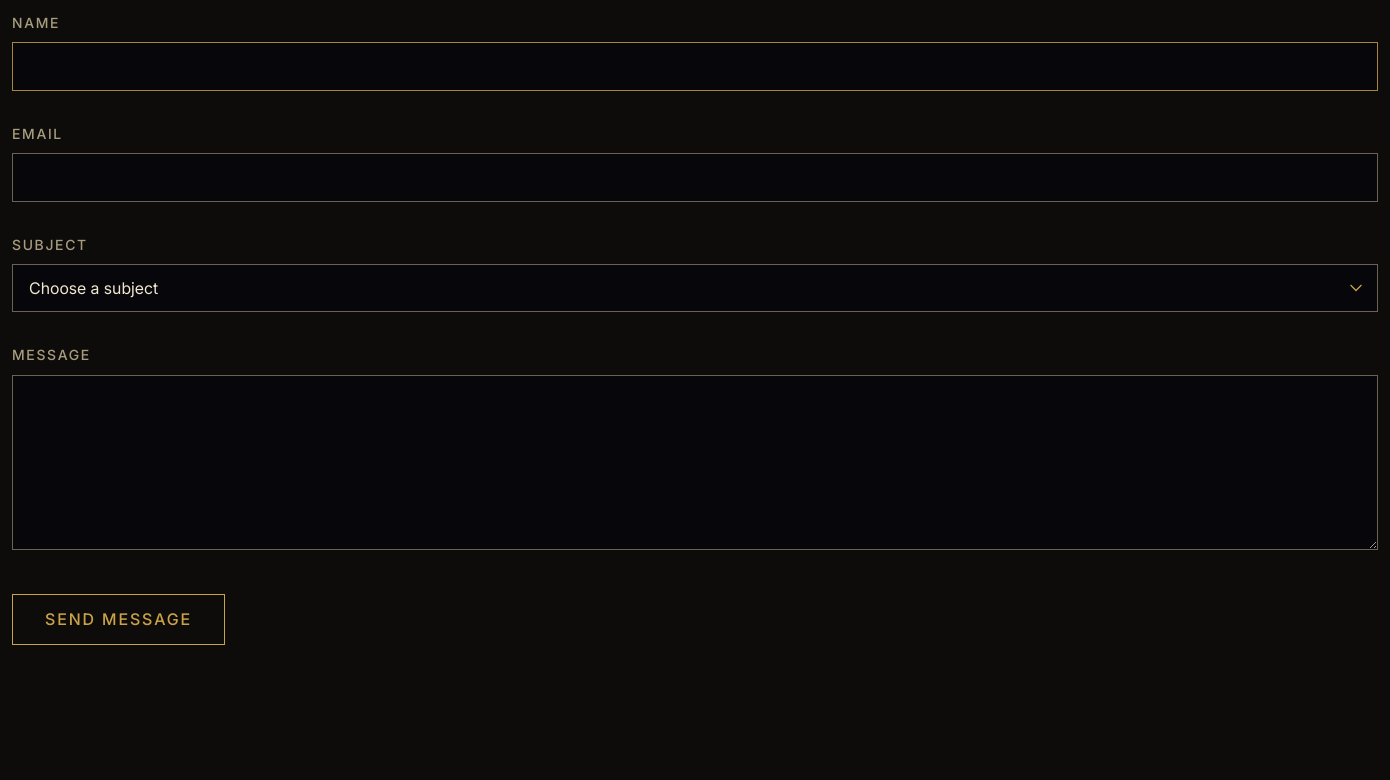
Test case: ContactForm › shows a server message when the error carries one
Step 1. Type "Ada" into the field with test id "contact-form-name" → (695, 67), box x1=12 y1=42 x2=1378 y2=91
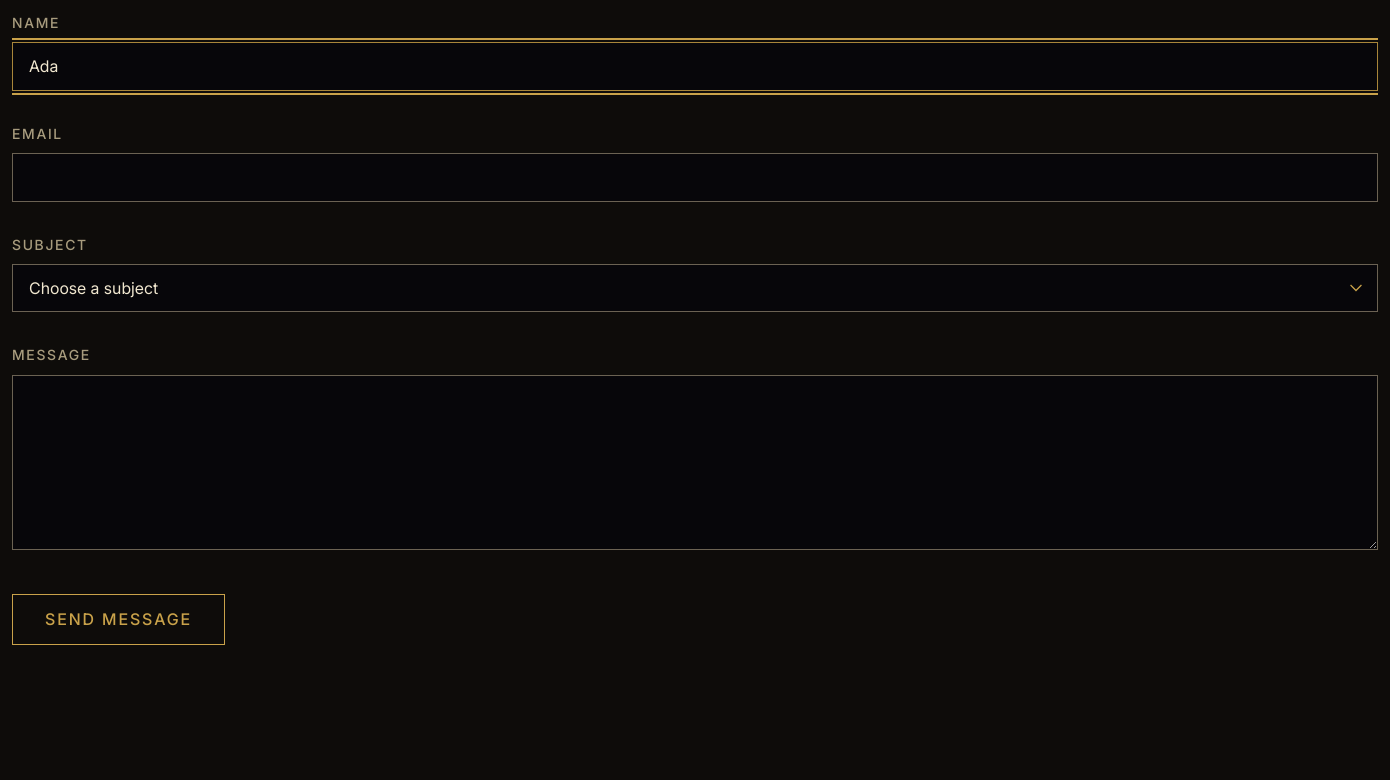
Step 2. Type "ada@example.com" into the field with test id "contact-form-email" → (695, 177), box x1=12 y1=153 x2=1378 y2=202
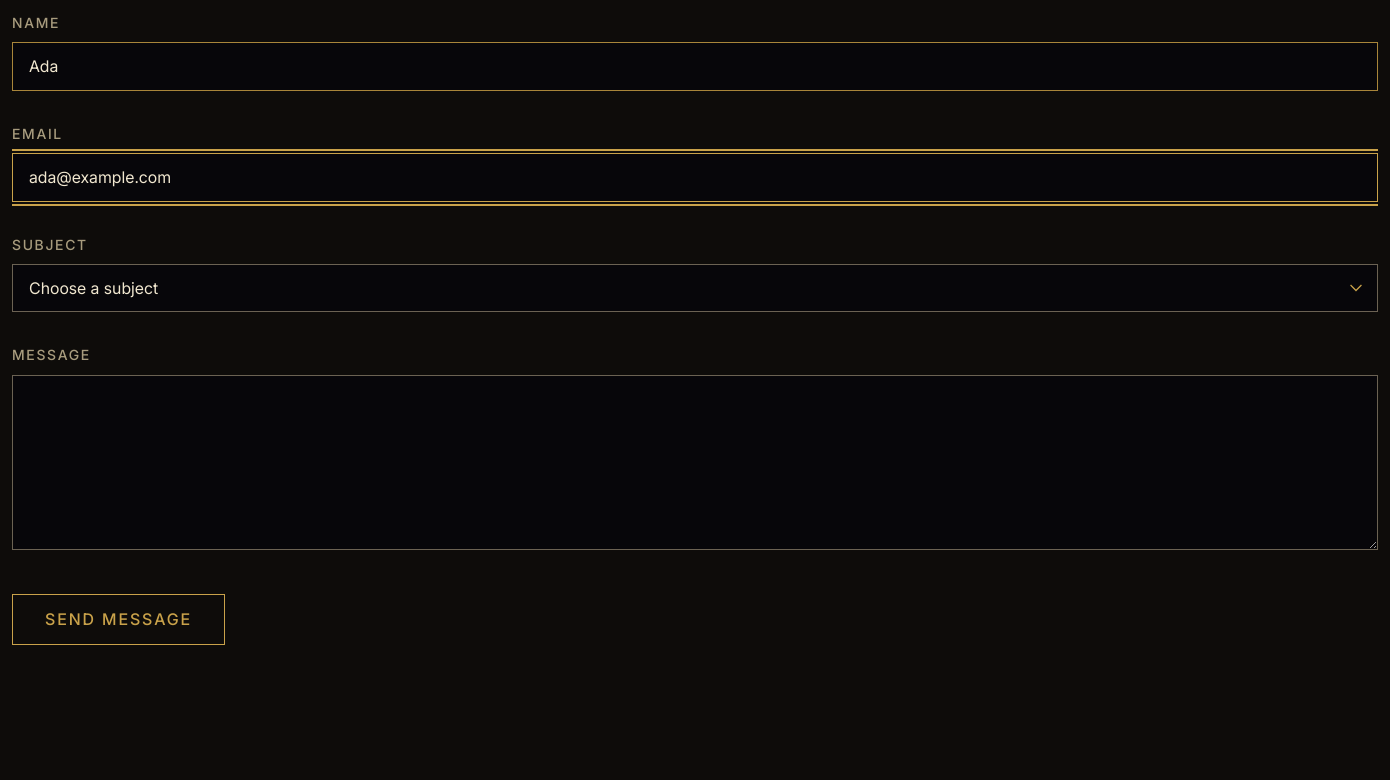
Step 3. Select "General inquiry" in the dropdown with test id "contact-form-subject-select" → (695, 288), box x1=12 y1=264 x2=1378 y2=312
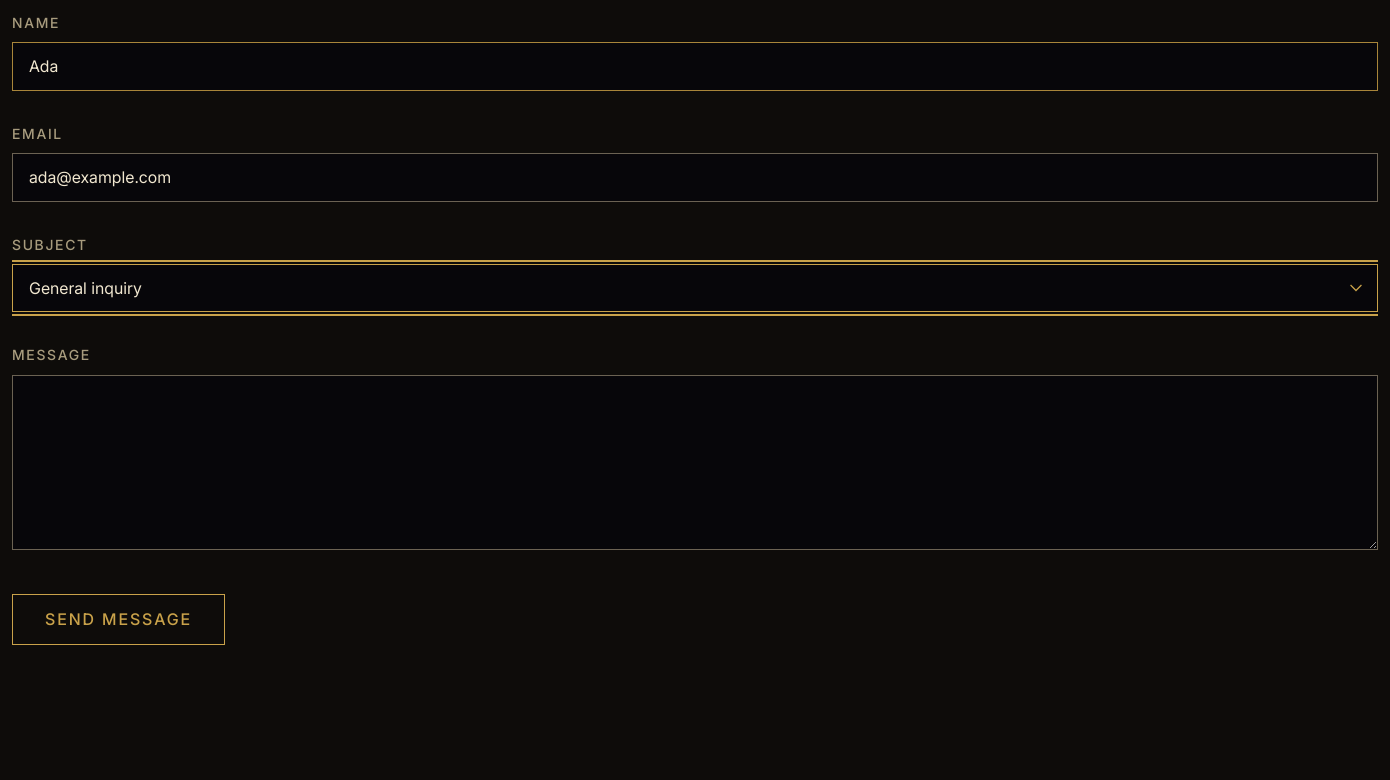
Step 4. Type "Hello there" into the text box with test id "contact-form-message" → (695, 462), box x1=12 y1=375 x2=1378 y2=550
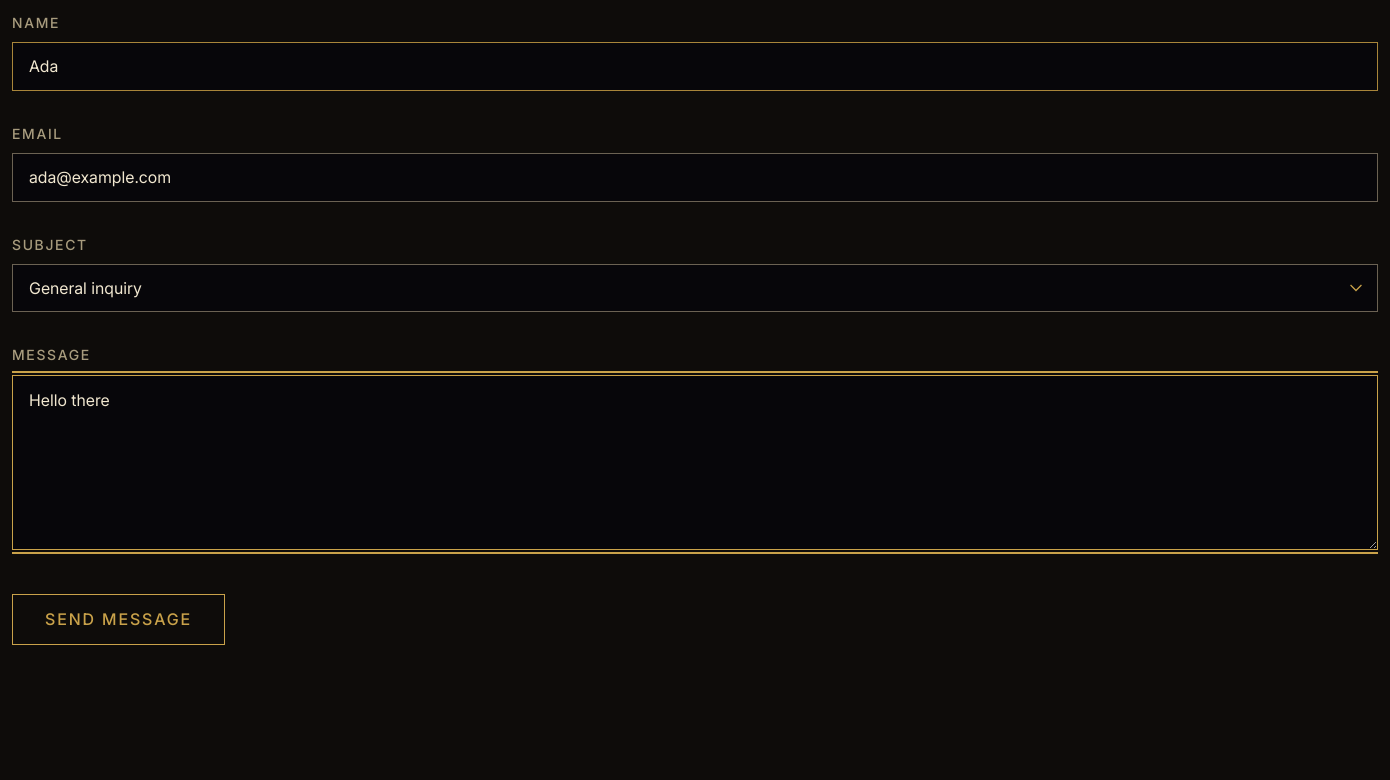
Step 5. Click the button with test id "contact-form-submit" → (119, 619), box x1=12 y1=594 x2=225 y2=645
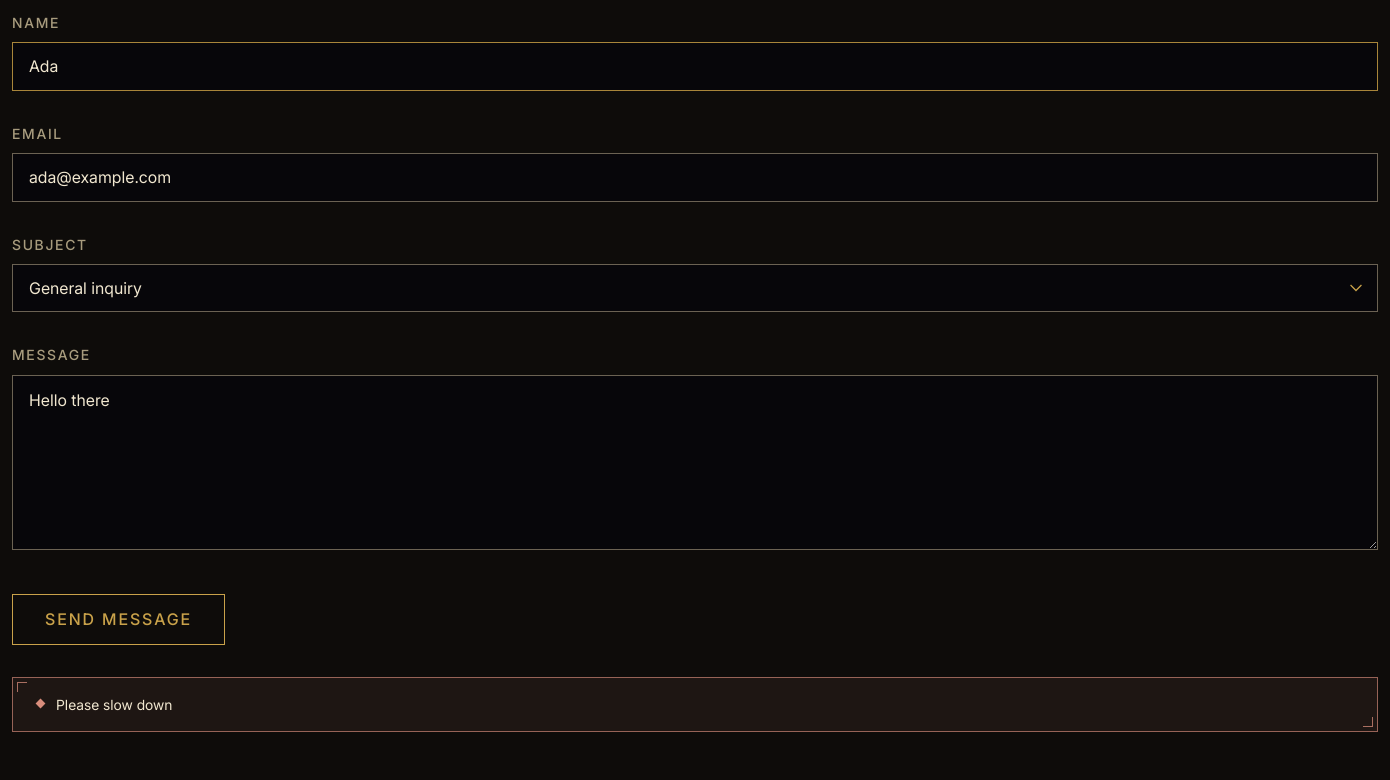
Expected: the element with test id "contact-form-error" reads "Please slow down", x1=56 y1=696 x2=172 y2=713
